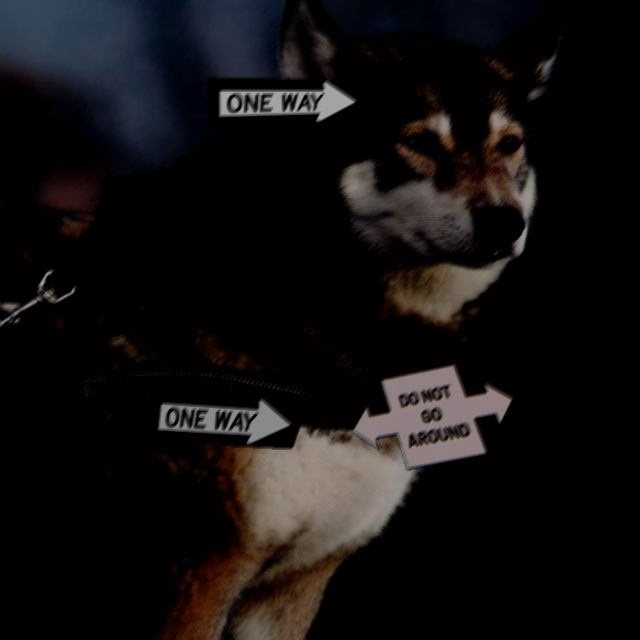DO_NOT_GO_AROUND: (351, 365, 513, 471)
ONE_WAY_ right: (147, 390, 309, 450), (207, 78, 369, 130)
